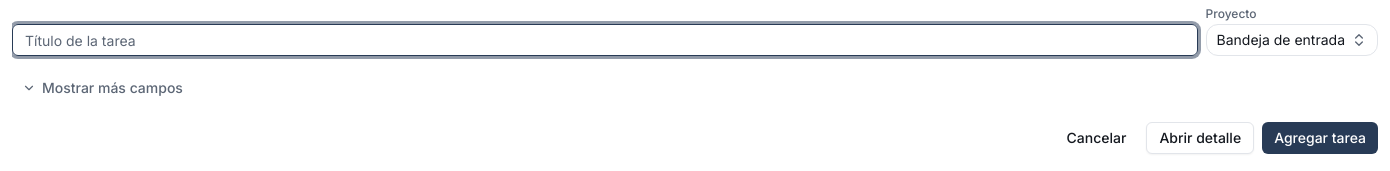
Test case: TaskQuickAddRow — componente de alta rico (bloque 5) › full y compact comparten el mismo reconocimiento del parser en vivo: es un solo componente, dos presentaciones (bloque 7.4)
Type "Comprar pan mañana" into the field named "Título de la nueva tarea" at (605, 40), box [12,24,1198,56]
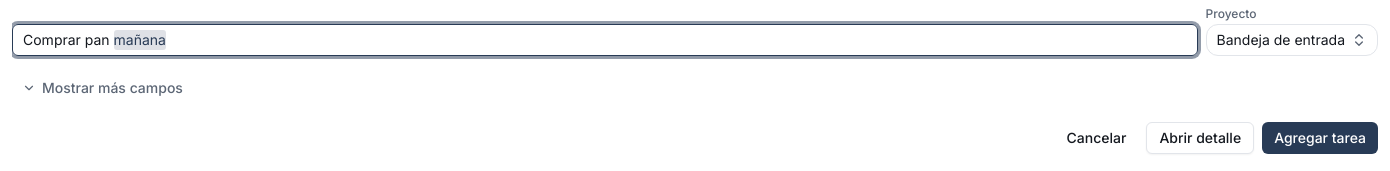
Result: the text "mañana" is shown at [114,30,166,50]
